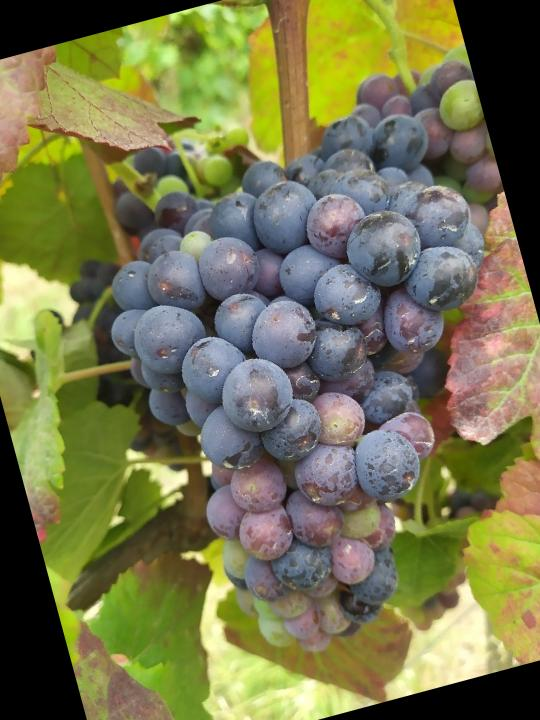grape: (76, 112, 540, 684)
